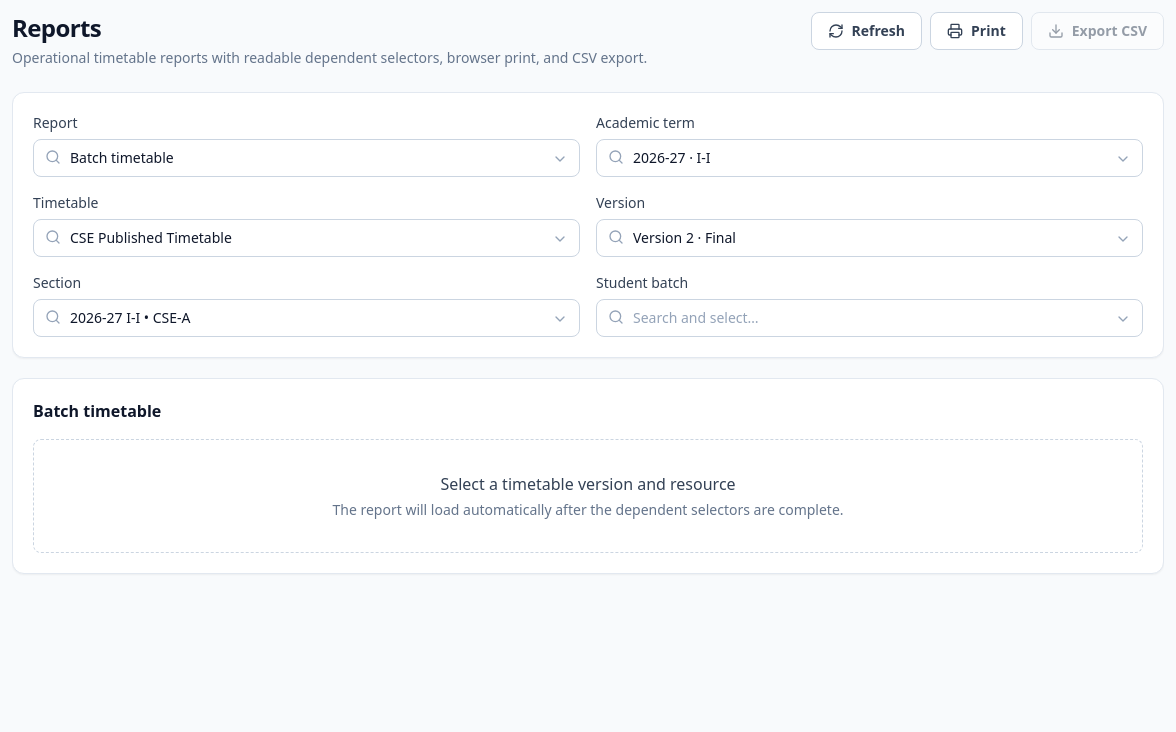
readable dependent report selectors › renders every configured student group without a three-group ceiling
Click the dropdown labelled "Student batch".
click(870, 318)  # box [596,299,1143,337]
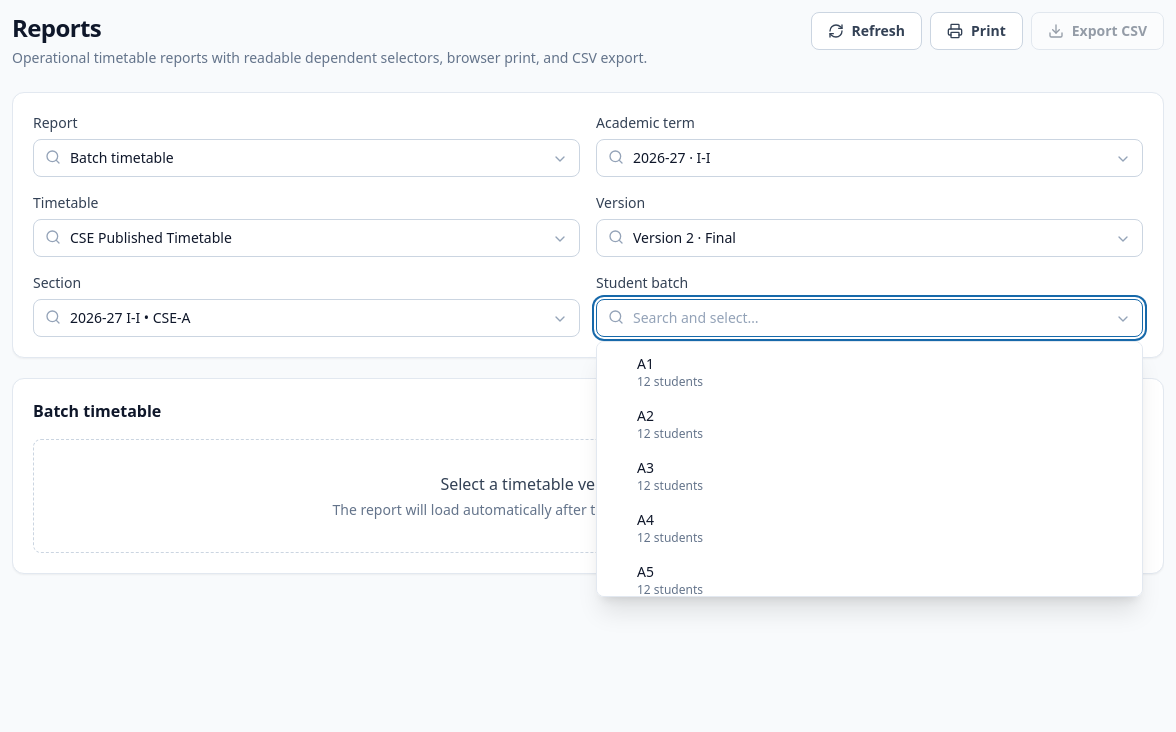
Check: the list named "Student batch options" shows "A1", box [601,346,1138,398]
